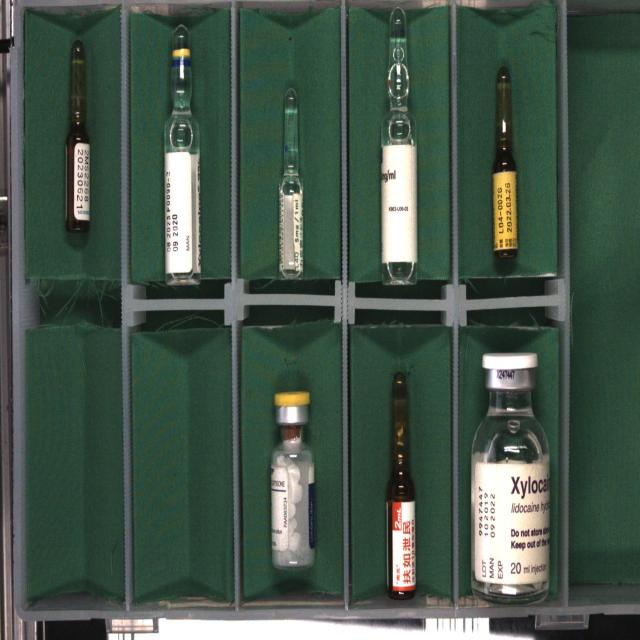Vials: (471, 353, 550, 602), (271, 391, 314, 567)
